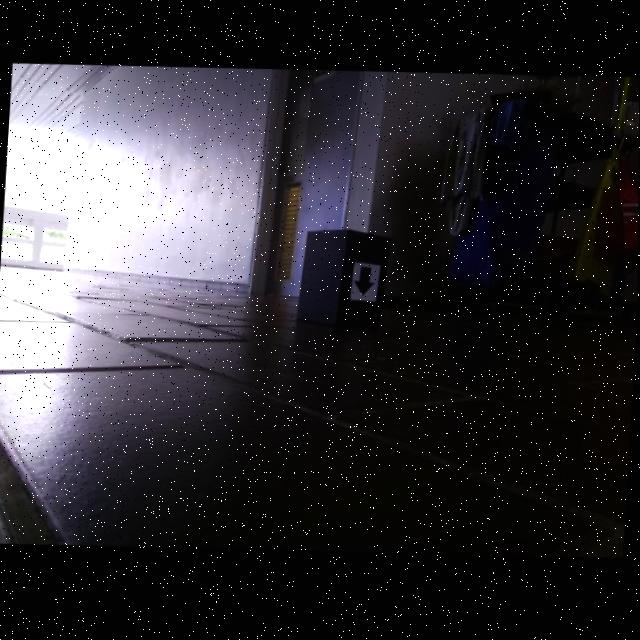DOWN: (355, 269, 375, 300)
